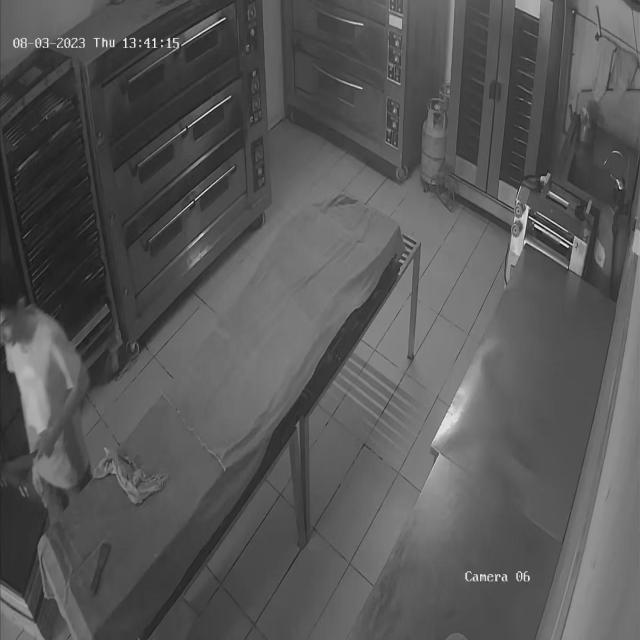Knife: (84, 536, 115, 602), (4, 448, 50, 482)
